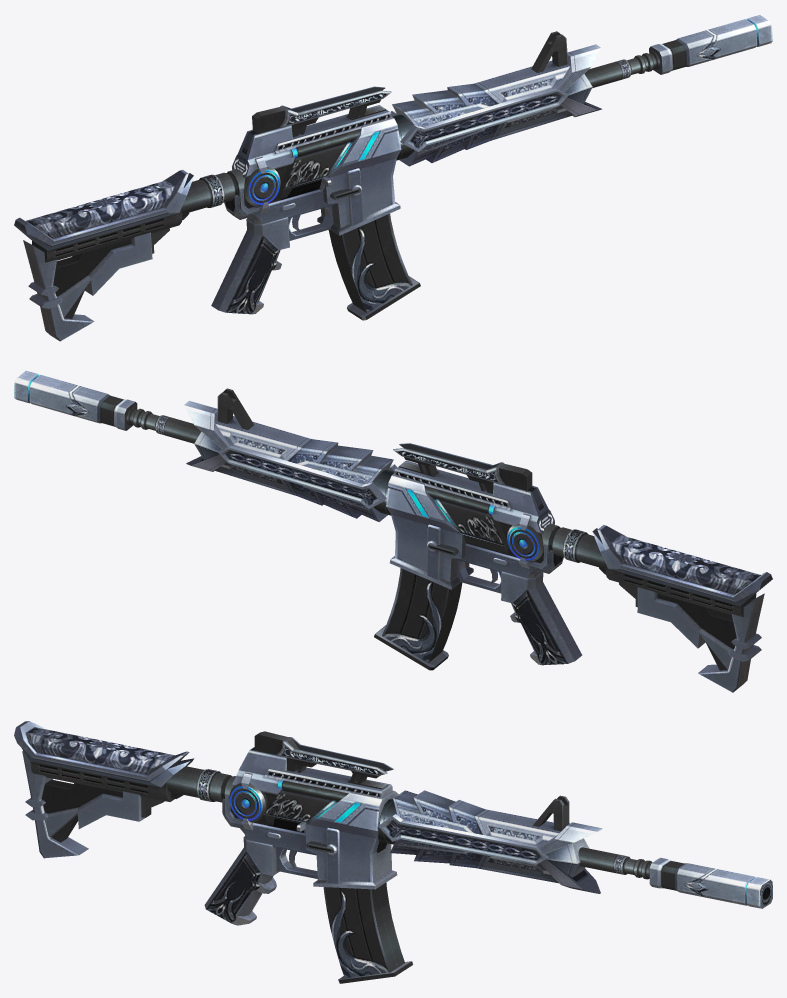
Rendered from m4_thor.glb.
3 views of the same model, one above another, from view 1: azimuth 30°, elevation 25°; view 2: azimuth 150°, elevation 25°; view 3: azimuth 330°, elevation 25° (orthographic).
Parts seen in each view (by area): view 1: Object_2; view 2: Object_2; view 3: Object_2.
Part boxes in pixels (box(x1,y1,x2,y2)): Object_2: box(14, 14, 772, 341); Object_2: box(14, 370, 772, 692); Object_2: box(14, 721, 772, 983).
Size of the model in its own units: 99.34 by 28.95 by 6.67.
Materials: 1 (1 with a texture image).
